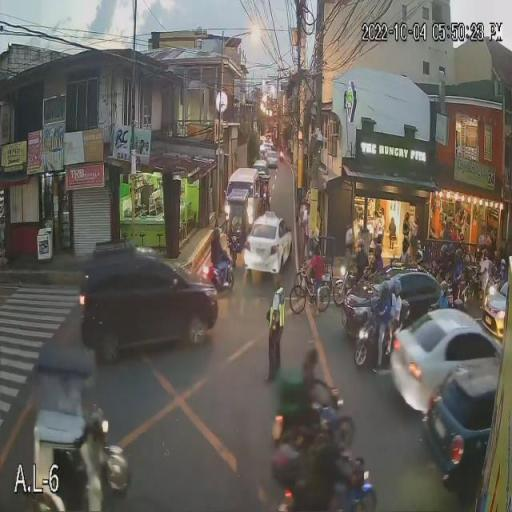helmet: (208, 222, 225, 242), (373, 282, 394, 297), (392, 278, 404, 299)
motorcycle: (352, 301, 411, 374), (201, 261, 244, 290)
rider: (374, 296, 392, 372), (208, 242, 233, 288), (384, 297, 403, 356)
